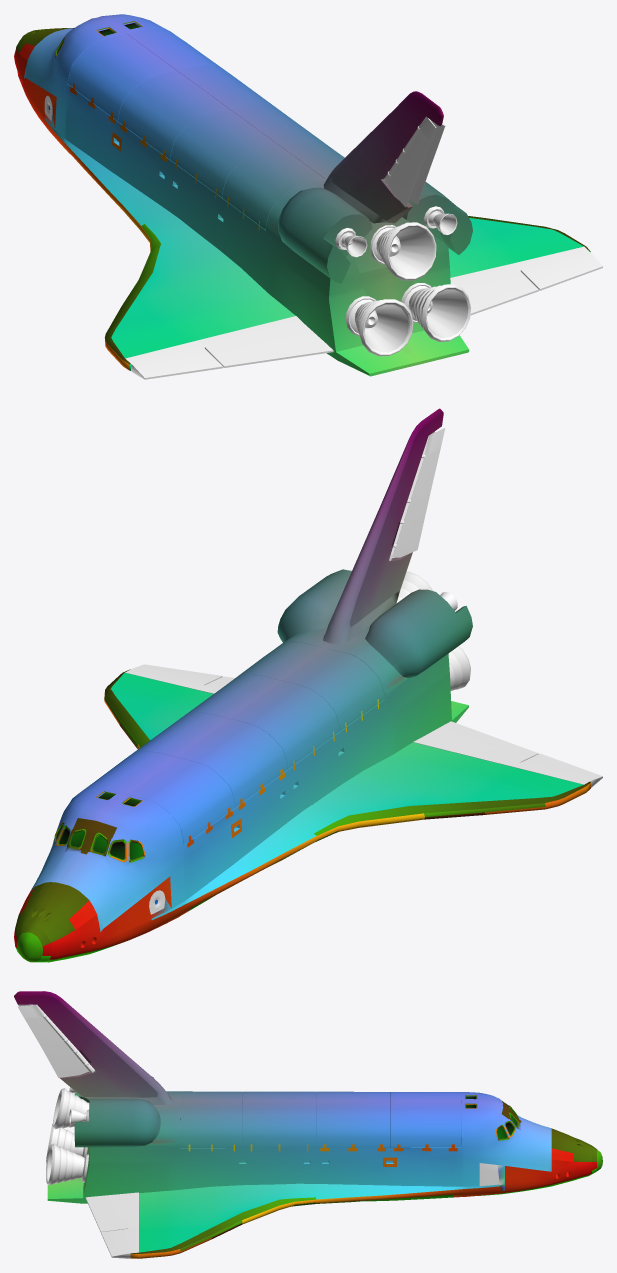
3 views of the same model, one above another, from view 1: azimuth 30°, elevation 25°; view 2: azimuth 150°, elevation 25°; view 3: azimuth 270°, elevation 25° (orthographic). The views are drawn at different scales.
Parts seen in each view (by area): view 1: Nave (×3); view 2: Nave (×4); view 3: Nave (×3).
Part boxes in pixels (x1,y1,x2,y2): Nave (×3): (14, 14, 602, 379); Nave (×4): (14, 408, 602, 962); Nave (×3): (14, 991, 602, 1258).
Size of the model in its own units: 1.29 by 0.7504 by 2.
